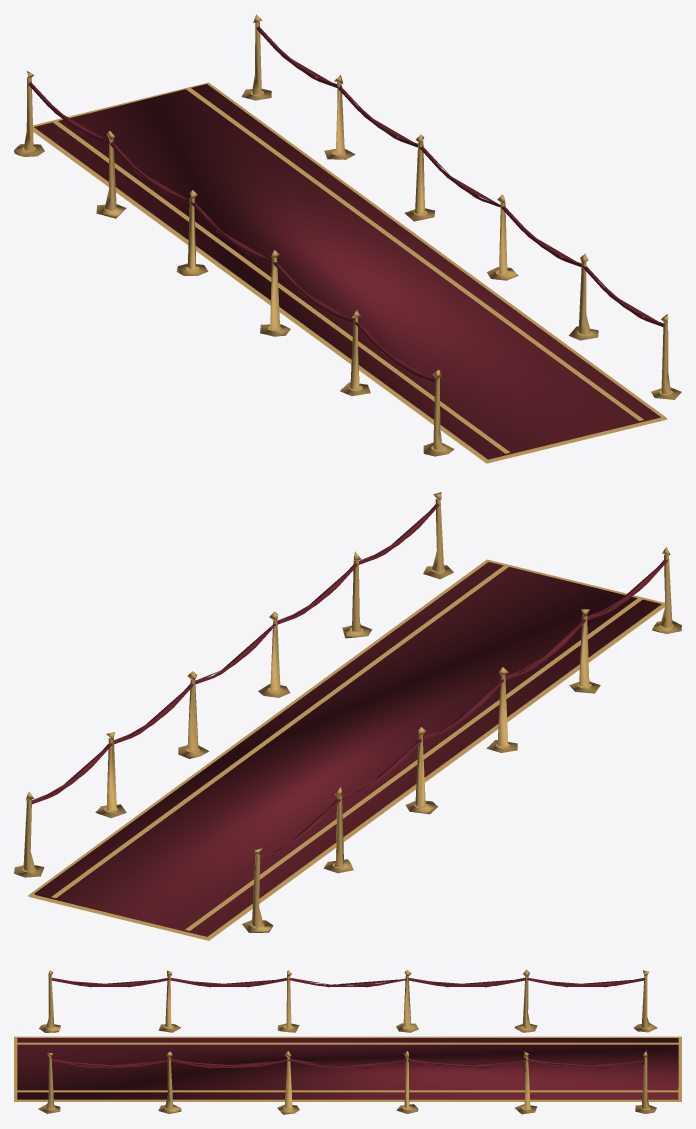
File: lod_red_carpet_set.glb
3 renders of one model, top to bottom at view 1: azimuth 30°, elevation 25°; view 2: azimuth 150°, elevation 25°; view 3: azimuth 270°, elevation 25°, orthographic. The views are drawn at different scales.
Visible parts, largest first — view 1: red_carpet_set; view 2: red_carpet_set; view 3: red_carpet_set.
Part boxes in pixels (x1,y1,x2,y2): red_carpet_set: (14, 14, 681, 463); red_carpet_set: (14, 492, 681, 940); red_carpet_set: (14, 969, 681, 1114).
Bounding box in the file's own units: 3.27 × 0.9956 × 10.1.
